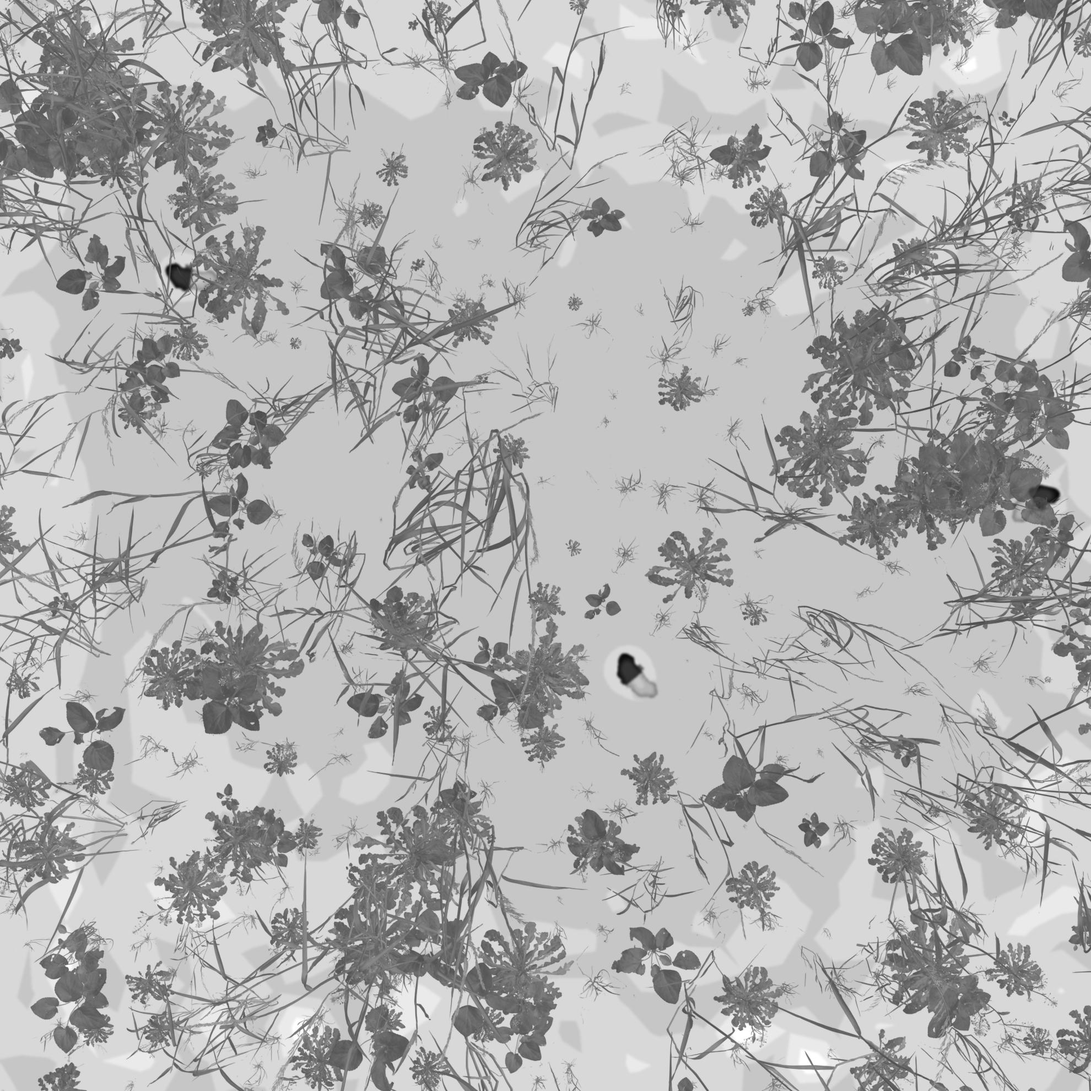landmine: (160, 257, 222, 300), (613, 651, 662, 704)
